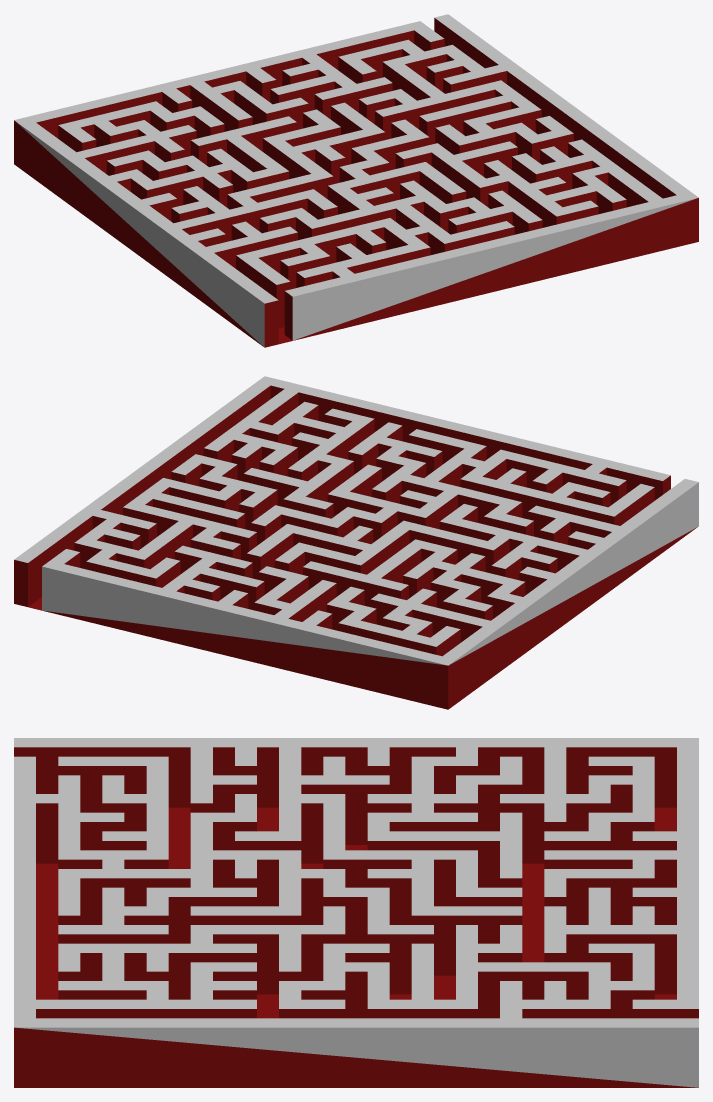
File: Maze3.obj
3 views of the same model, one above another, from view 1: azimuth 30°, elevation 25°; view 2: azimuth 150°, elevation 25°; view 3: azimuth 270°, elevation 25° (orthographic). The views are drawn at different scales.
Parts seen in each view (by area): view 1: Material2.556, Material2.122, Material2.121, Material2.009, Material2.559, Material2.001, Material2.007, Material2.557, Material2.484, Material2.004, Material2.003, Material2.005 (+32 smaller); view 2: Material2.556, Material2.120, Material2.121, Material2.009, Material2.559, Material2.001, Material2.007, Material2.437, Material2.557, Material2.484, Material2.004, Material2.003 (+27 smaller); view 3: Material2.568, Material2.556, Material2.009, Material2.559, Material2.001, Material2.007, Material2.557, Material2.004, Material2.003, Material2.123, Material2.176, Material2.079 (+64 smaller).
Boxes of the visible parts, left/top/right/bottom form: Material2.556: left=236, top=14, right=698, bottom=296; Material2.122: left=264, top=198, right=698, bottom=347; Material2.121: left=14, top=120, right=264, bottom=347; Material2.009: left=14, top=21, right=443, bottom=303; Material2.559: left=260, top=119, right=541, bottom=243; Material2.001: left=172, top=109, right=340, bottom=228; Material2.007: left=58, top=101, right=223, bottom=157; Material2.557: left=396, top=143, right=598, bottom=216; Material2.484: left=507, top=71, right=676, bottom=198; Material2.004: left=191, top=116, right=296, bottom=181; Material2.003: left=107, top=150, right=232, bottom=190; Material2.005: left=293, top=102, right=384, bottom=160; Material2.556: left=14, top=376, right=670, bottom=578; Material2.120: left=14, top=560, right=448, bottom=709; Material2.121: left=448, top=482, right=698, bottom=709; Material2.009: left=42, top=479, right=698, bottom=665; Material2.559: left=251, top=422, right=533, bottom=527; Material2.001: left=275, top=504, right=587, bottom=568; Material2.007: left=327, top=586, right=490, bottom=646; Material2.437: left=298, top=392, right=592, bottom=469; Material2.557: left=284, top=408, right=374, bottom=509; Material2.484: left=101, top=386, right=270, bottom=514; Material2.004: left=303, top=539, right=456, bottom=590; Material2.003: left=431, top=553, right=524, bottom=611; Material2.568: left=14, top=1027, right=698, bottom=1087; Material2.556: left=14, top=756, right=698, bottom=1027; Material2.009: left=14, top=738, right=698, bottom=1008; Material2.559: left=58, top=794, right=433, bottom=934; Material2.001: left=235, top=747, right=522, bottom=896; Material2.007: left=500, top=747, right=654, bottom=840; Material2.557: left=58, top=906, right=345, bottom=971; Material2.004: left=367, top=803, right=522, bottom=878; Material2.003: left=367, top=747, right=522, bottom=803; Material2.123: left=14, top=747, right=190, bottom=807; Material2.176: left=36, top=863, right=58, bottom=999; Material2.079: left=566, top=747, right=676, bottom=807.
Size of the model in its own units: 28.27 by 2.75 by 28.27.
